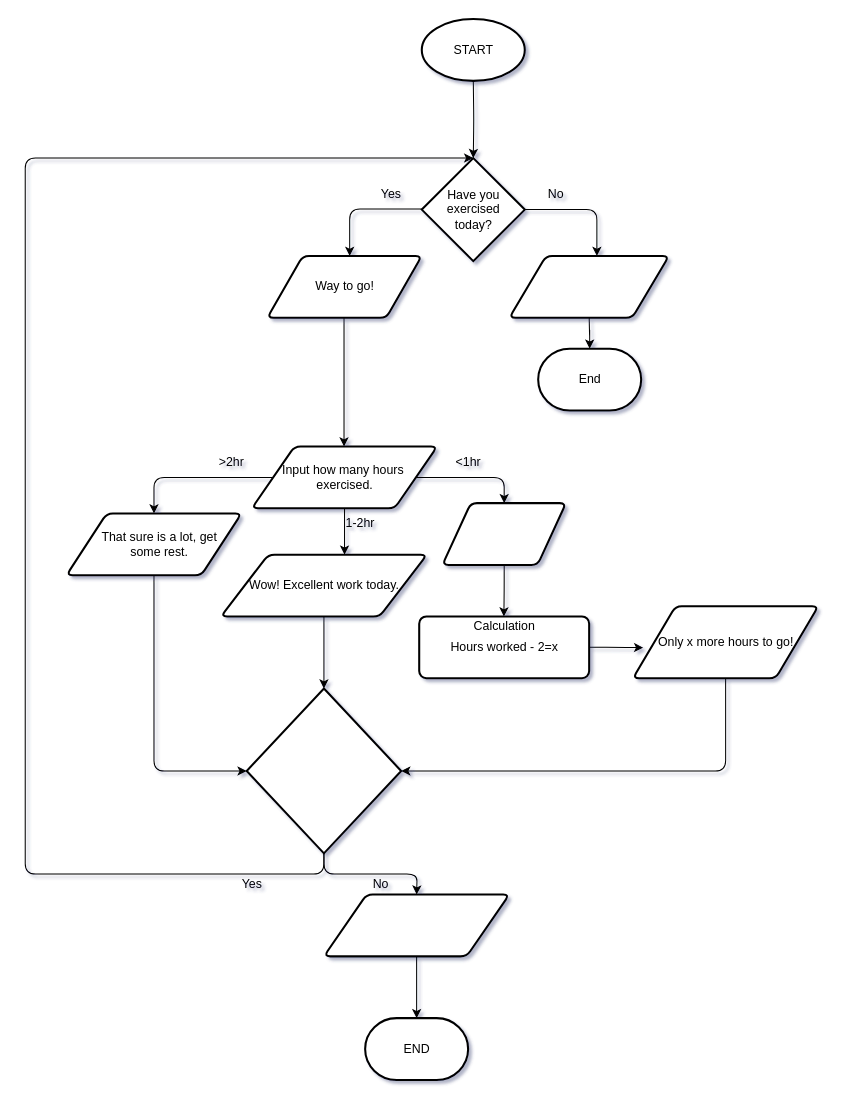
This 844x1104 diagram has some shape labels left out. Each missing label, with the box of its shape:
Keep pushing, almost there!: (441, 502, 566, 565)
See you tomorrow!: (322, 893, 510, 957)
Thats okay, there's always tomorrow.: (508, 254, 670, 318)
Would you like to input another day?: (245, 687, 402, 854)
